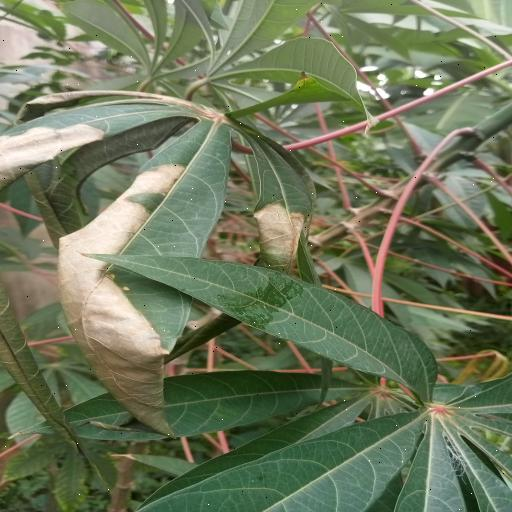Cassava_Root_Rot: (7, 86, 322, 422)
